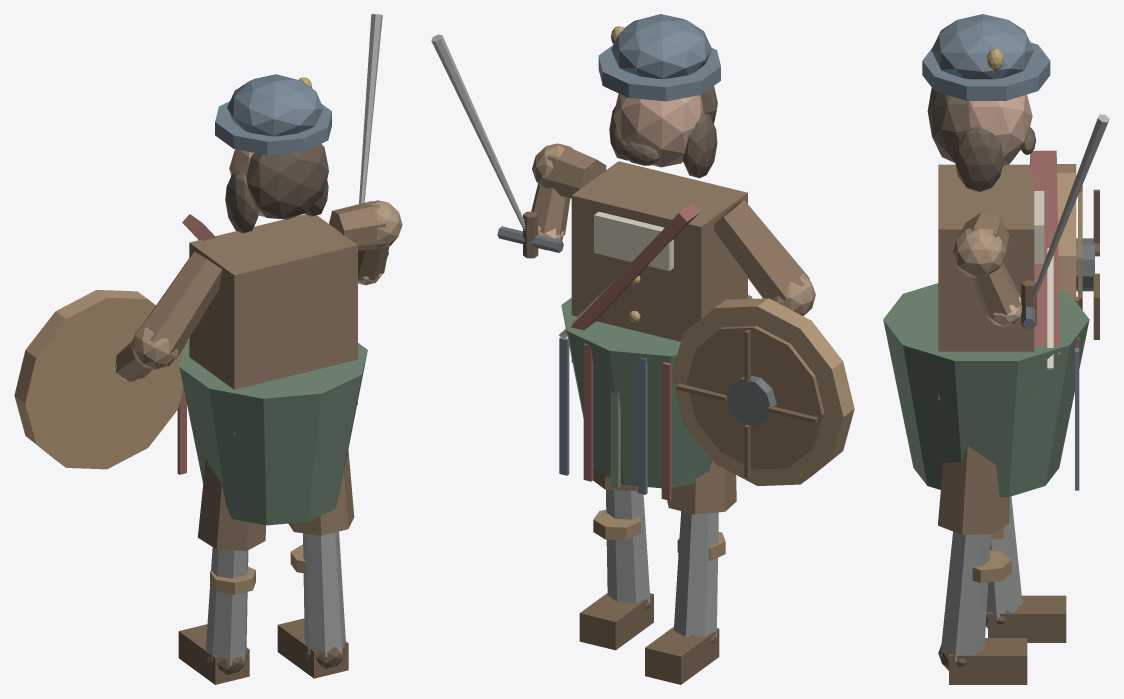
File: jacobite_highlander_sword_targe.glb
3 views of the same model, side by side, from view 1: azimuth 30°, elevation 25°; view 2: azimuth 150°, elevation 25°; view 3: azimuth 270°, elevation 25° (orthographic). The views are drawn at different scales.
Parts seen in each view (by area): view 1: brown, tartan_g, wood_lt, grey, blue, hair, leather, brown_lt, steel, tartan_r, leather_lt; view 2: brown, tartan_g, wood, wood_lt, grey, blue, leather, tartan_r, skin, hair, tartan_b, linen (+5 smaller); view 3: tartan_g, brown, blue, leather, grey, hair, tartan_r, skin, wood_lt, brown_lt, steel, linen (+5 smaller).
Boxes of the visible parts, bbox=[...] form: brown: bbox=[116, 201, 389, 550]; tartan_g: bbox=[179, 340, 367, 525]; wood_lt: bbox=[14, 290, 185, 469]; grey: bbox=[206, 531, 345, 665]; blue: bbox=[215, 74, 331, 155]; hair: bbox=[225, 143, 328, 233]; leather: bbox=[178, 618, 348, 684]; brown_lt: bbox=[131, 200, 402, 369]; steel: bbox=[359, 14, 382, 203]; tartan_r: bbox=[177, 214, 215, 474]; leather_lt: bbox=[210, 544, 305, 594]; brown: bbox=[531, 144, 809, 514]; tartan_g: bbox=[561, 295, 752, 488]; wood: bbox=[686, 326, 824, 469]; wood_lt: bbox=[671, 298, 854, 485]; grey: bbox=[606, 489, 718, 637]; blue: bbox=[598, 14, 720, 101]; leather: bbox=[523, 211, 818, 684]; tartan_r: bbox=[566, 203, 699, 500]; skin: bbox=[613, 93, 703, 167]; hair: bbox=[609, 86, 717, 178]; tartan_b: bbox=[559, 337, 647, 494]; linen: bbox=[559, 211, 673, 337]; tartan_g: bbox=[883, 283, 1089, 497]; brown: bbox=[938, 164, 1034, 534]; blue: bbox=[922, 14, 1050, 100]; leather: bbox=[938, 189, 1099, 684]; grey: bbox=[940, 496, 1022, 661]; hair: bbox=[927, 88, 1035, 192]; tartan_r: bbox=[1030, 150, 1079, 355]; skin: bbox=[969, 94, 1032, 165]; wood_lt: bbox=[1057, 164, 1076, 299]; brown_lt: bbox=[952, 227, 1005, 278]; steel: bbox=[1033, 114, 1109, 300]; linen: bbox=[1034, 191, 1053, 369].
Bounding box in the file's own units: 1.18 × 1.75 × 0.5668.
